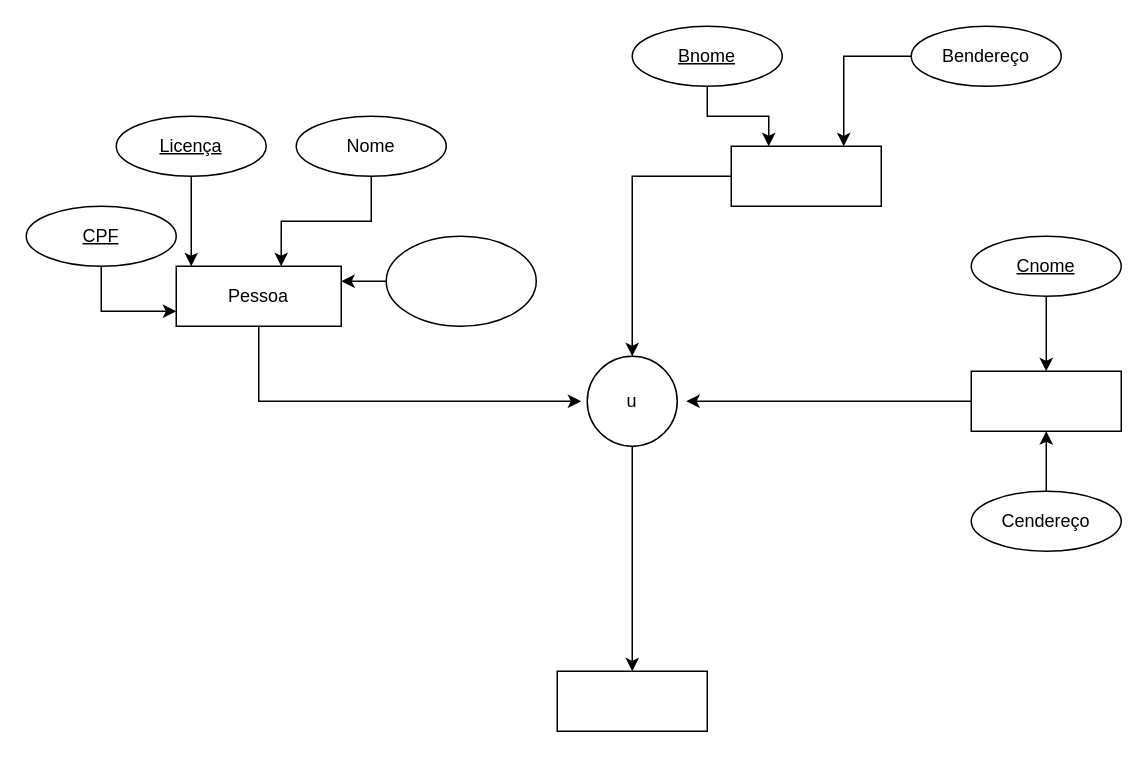
Some shapes in this 1148 by 758 pixel diagram are drawn without their labels. Here are the shapes that lost their labels. From the top down, the centre of each, then its label:
At (x=805, y=175): "Banco".
At (x=460, y=280): "Endereço".
At (x=1045, y=400): "Companhia".
At (x=631, y=700): "Owner".
